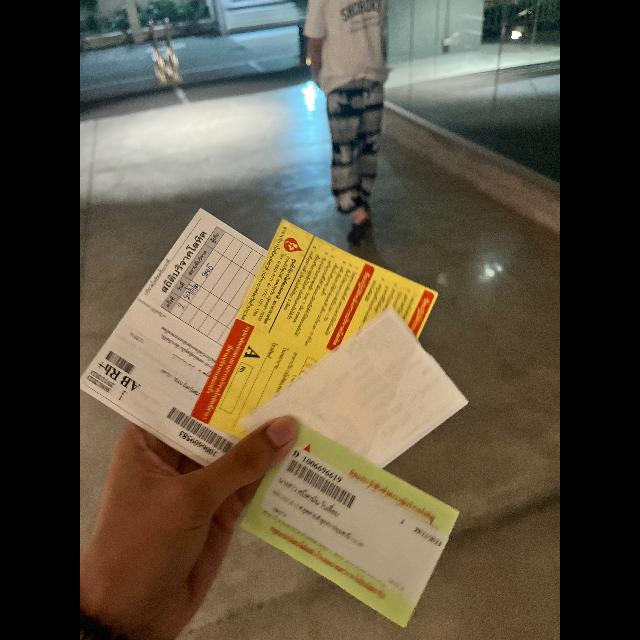scrap_paper: (194, 216, 443, 472), (80, 203, 300, 479), (240, 419, 462, 626), (242, 306, 470, 486)
